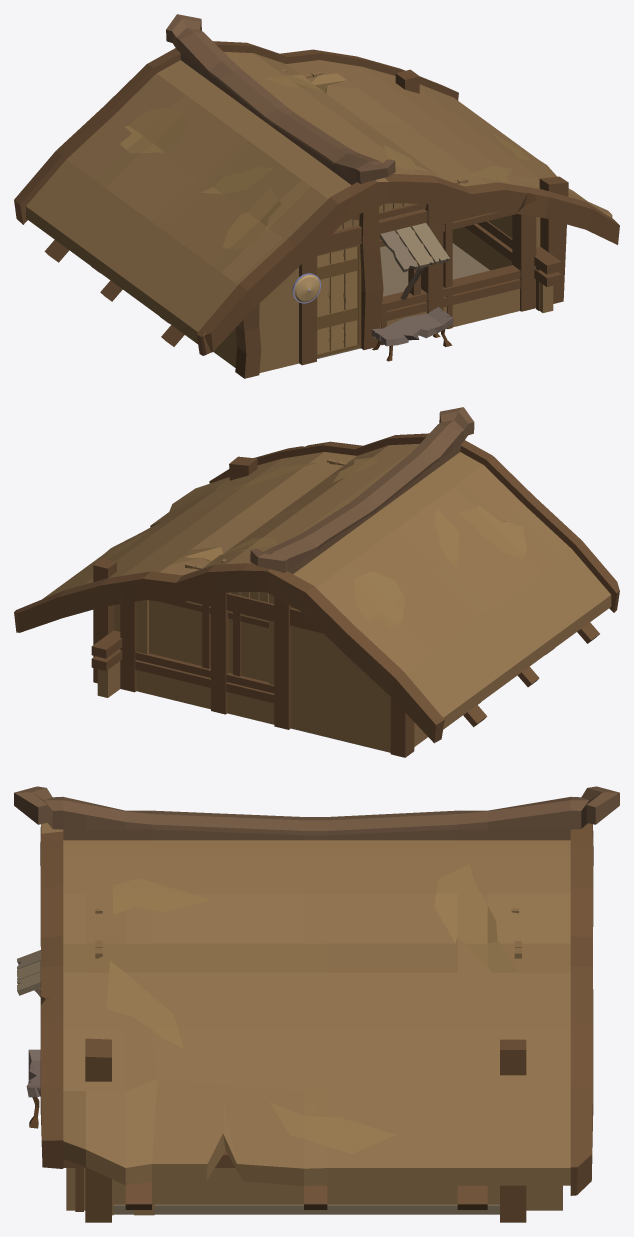
The model's file is smithy.glb.
3 renders of one model, top to bottom at view 1: azimuth 30°, elevation 25°; view 2: azimuth 150°, elevation 25°; view 3: azimuth 270°, elevation 25°, orthographic. The views are drawn at different scales.
Visible parts, largest first — view 1: Cube.134; view 2: Cube.134; view 3: Cube.134.
Boxes of the visible parts, left/top/right/bottom form: Cube.134: left=14, top=14, right=619, bottom=378; Cube.134: left=14, top=407, right=619, bottom=757; Cube.134: left=14, top=786, right=619, bottom=1222.
Size of the model in its own units: 34.85 by 15 by 28.25.
Materials: 2 (2 with a texture image).
